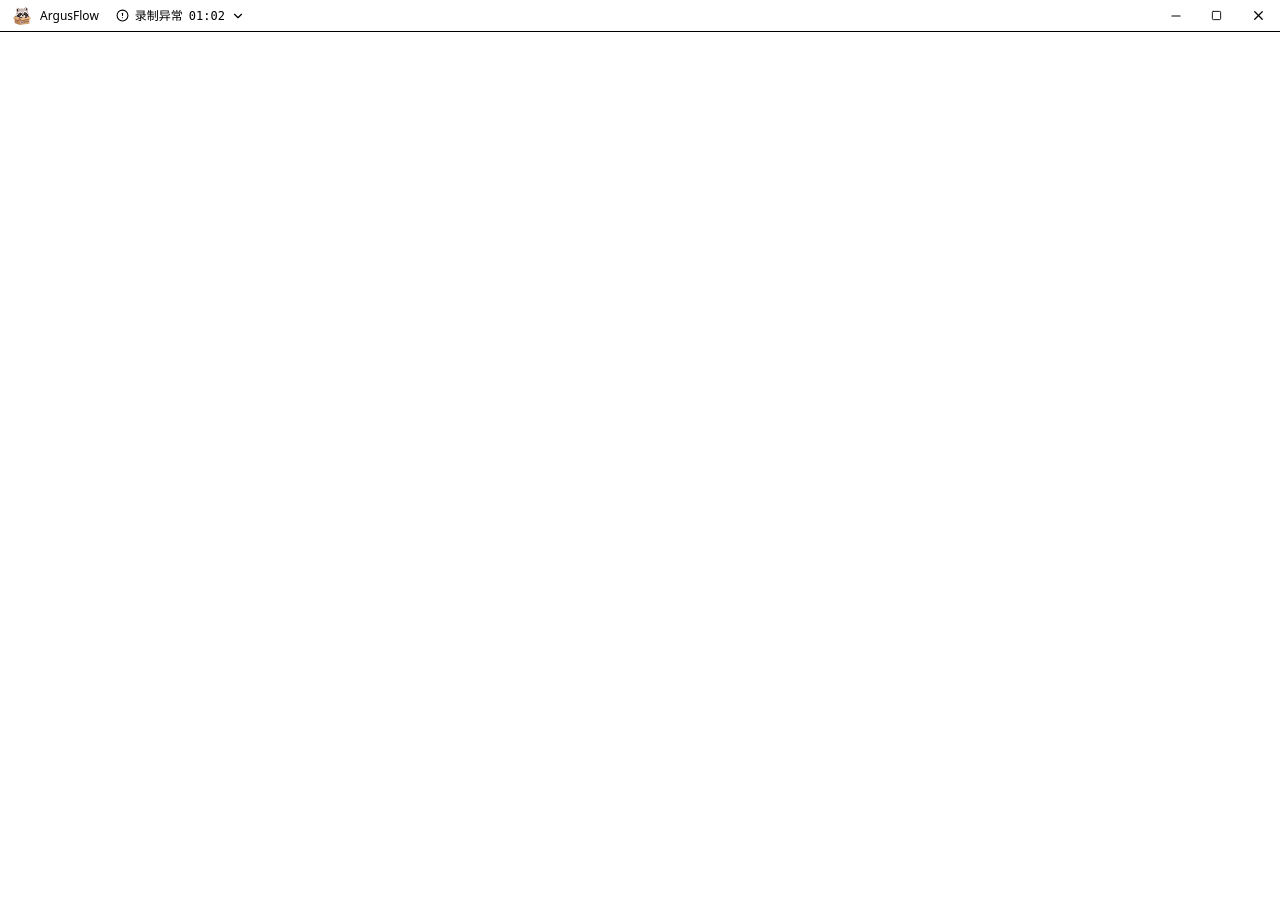
Scenario: 标题栏录制菜单 › 异常在标题栏可发现，模态回看保留输入错误并移除多余功能
Click the button "录制异常 01:02" at {"x": 180, "y": 16}, box x1=107 y1=4 x2=254 y2=28
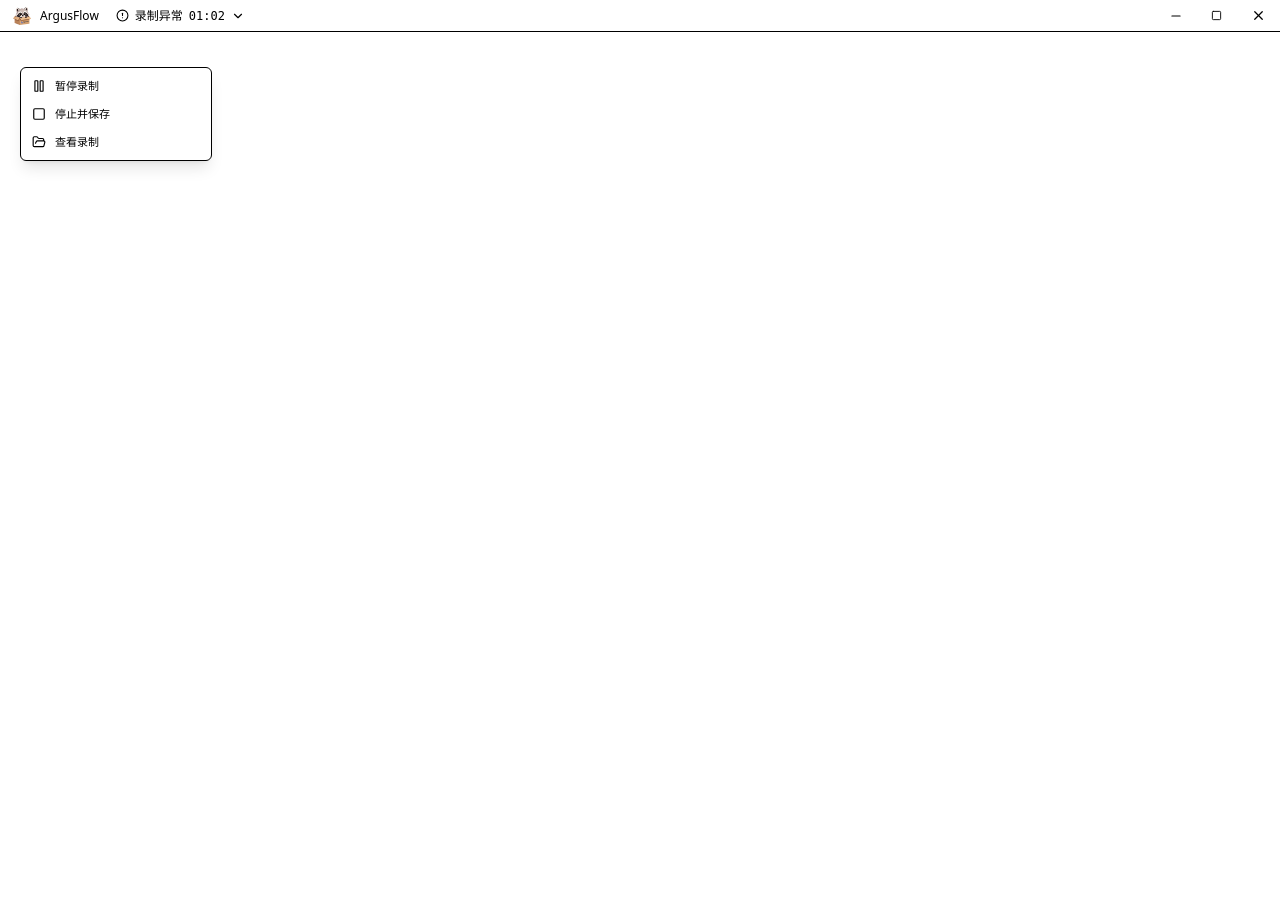
Click the menu item "查看录制" at {"x": 116, "y": 142}, box x1=25 y1=128 x2=207 y2=156
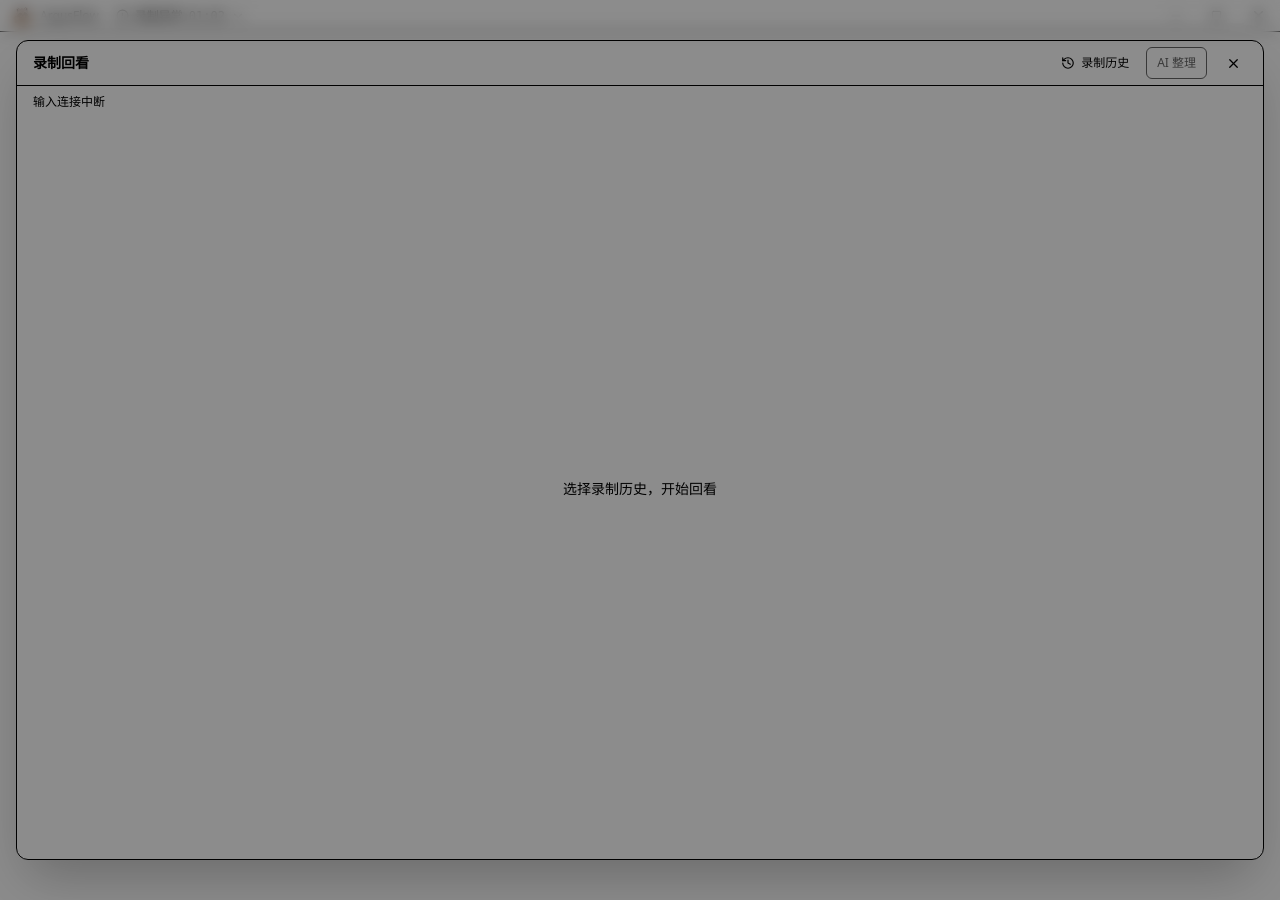
Expected: the message reads "输入连接中断", x1=33 y1=93 x2=105 y2=110
Click the button named "关闭" at {"x": 1233, "y": 63}, box x1=1219 y1=49 x2=1247 y2=77
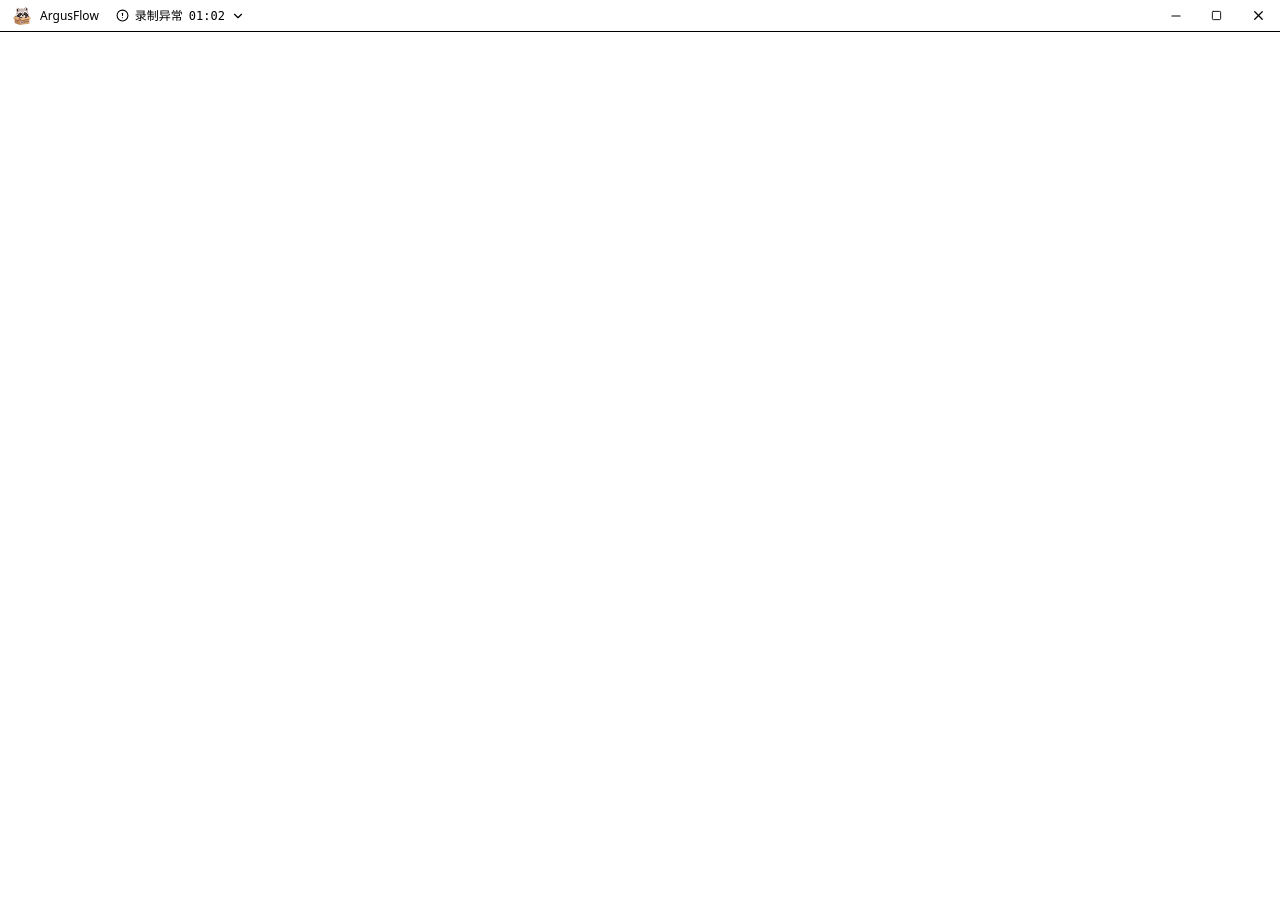
Click the button with aria-label "录制菜单" at {"x": 180, "y": 16}, box x1=107 y1=4 x2=254 y2=28
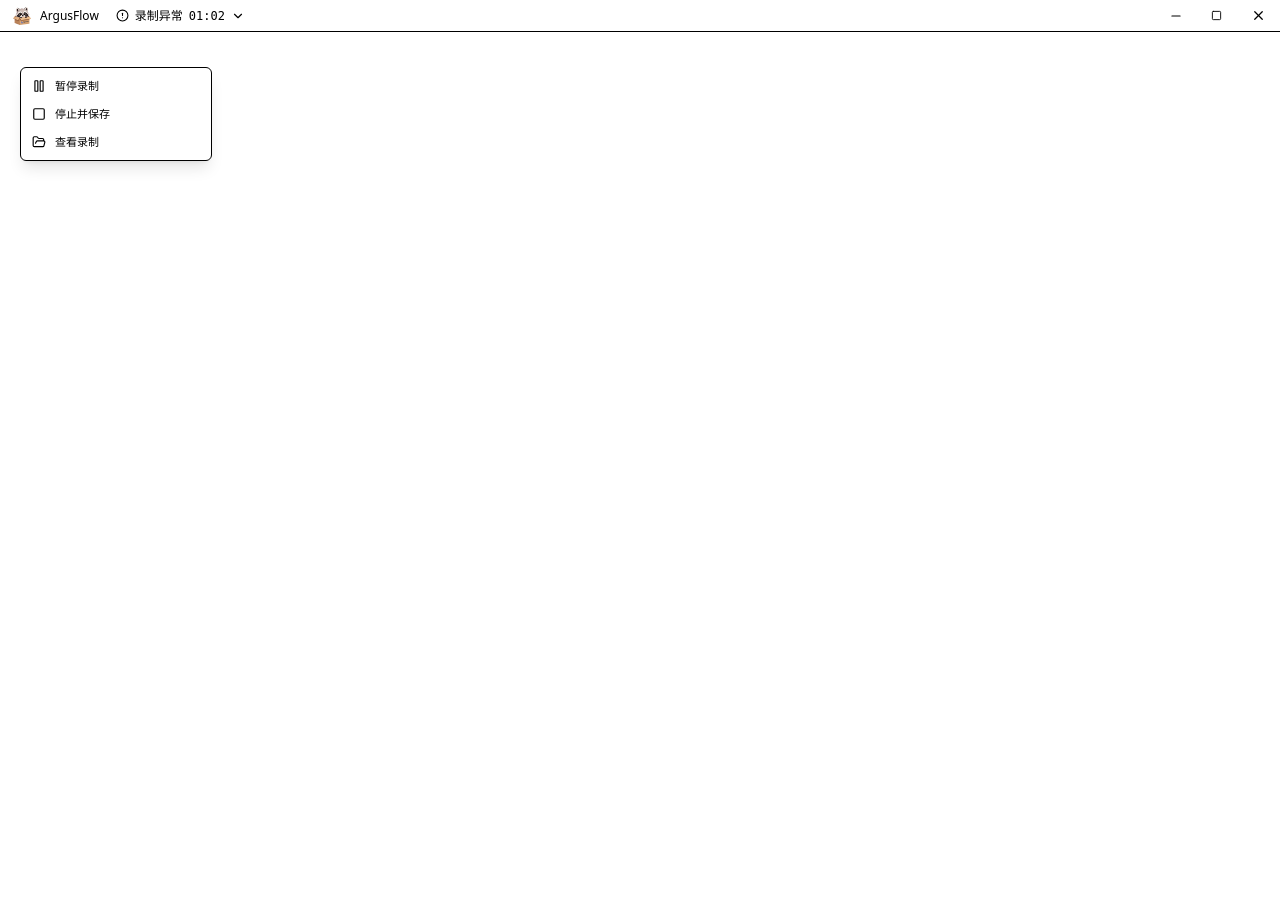
Expected: the menu item "停止并保存" is enabled, x1=25 y1=100 x2=207 y2=128
Click the menu item "查看录制" at {"x": 116, "y": 142}, box x1=25 y1=128 x2=207 y2=156
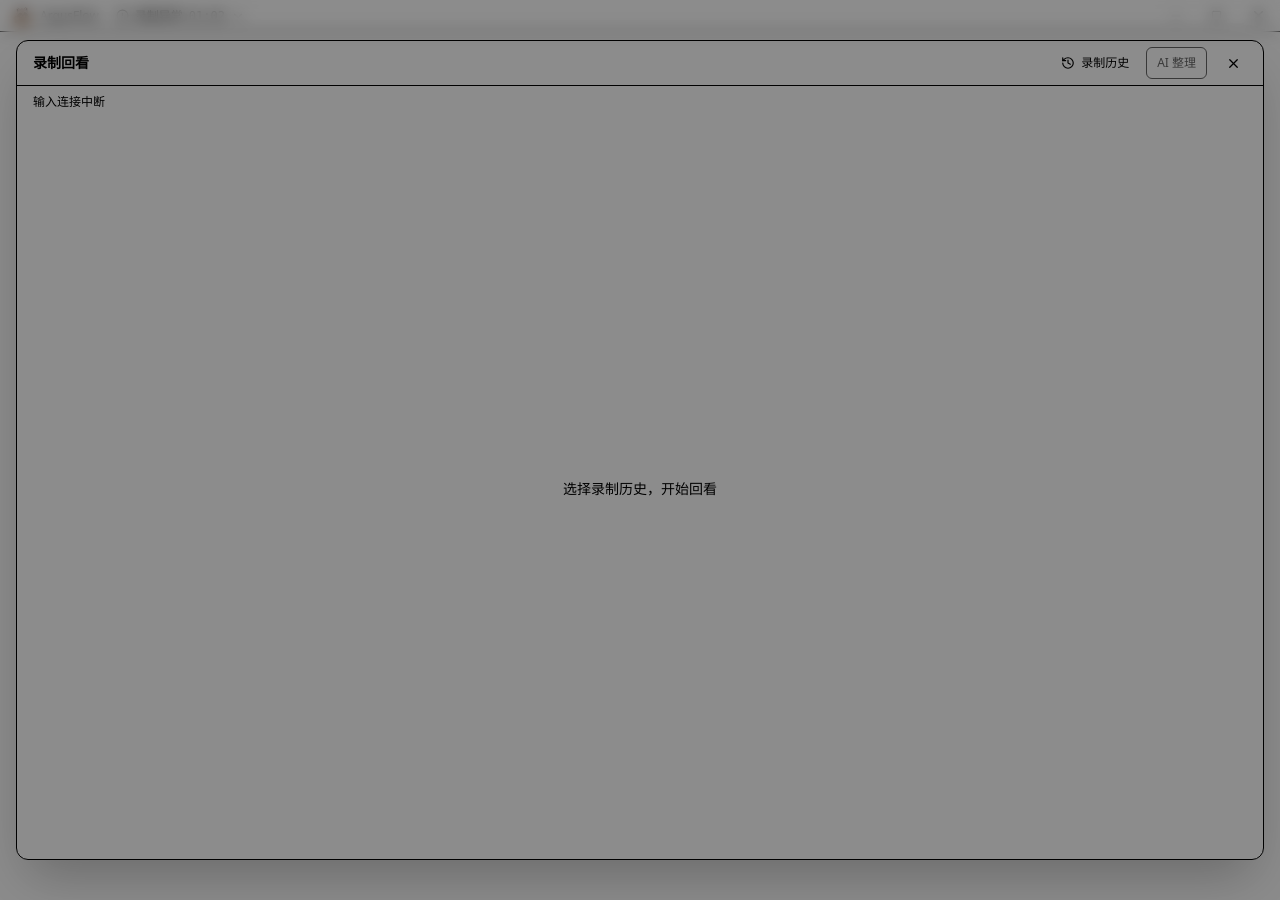
Expected: the dialog "录制回看" is shown
